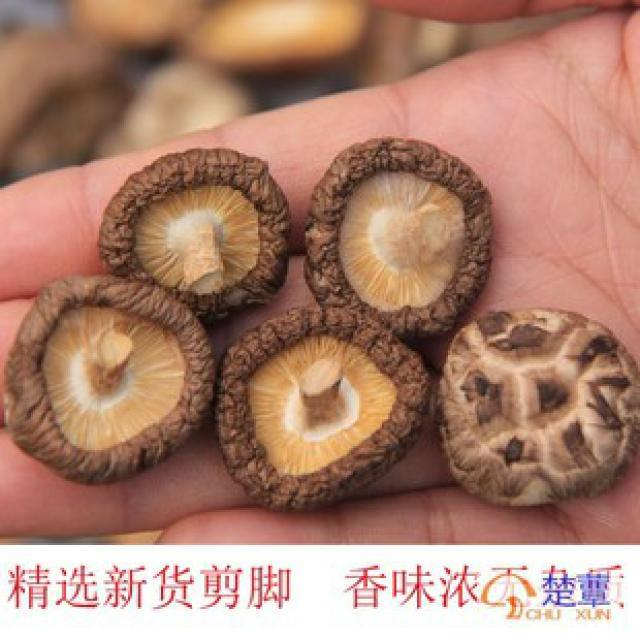Lentinus edodes: (221, 301, 433, 513), (8, 270, 213, 485), (307, 138, 492, 342), (444, 311, 637, 506), (102, 149, 291, 315)
